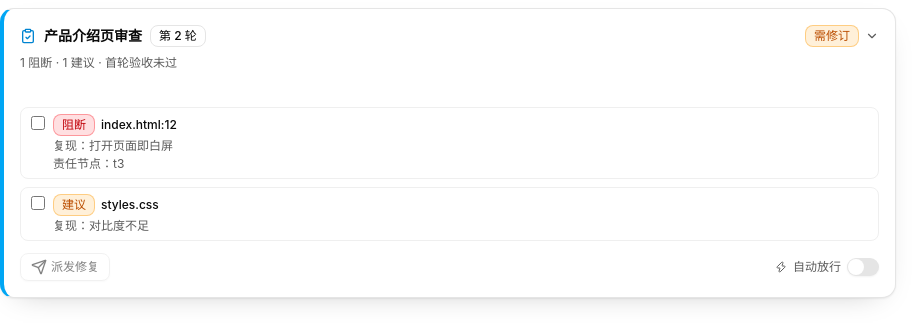
Test: ReviewReportCard（F3 渲染契约） › ② 一键折叠为摘要（问题列表隐藏）
expect the text "index.html:12" is shown: met, box x1=101 y1=117 x2=177 y2=133
Click the button named "折叠为摘要".
click(872, 36)  # box x1=865 y1=29 x2=879 y2=43
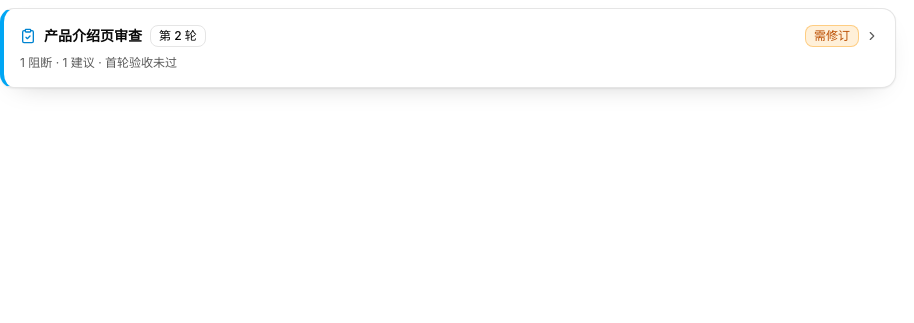
expect the text "index.html:12" is gone: met
